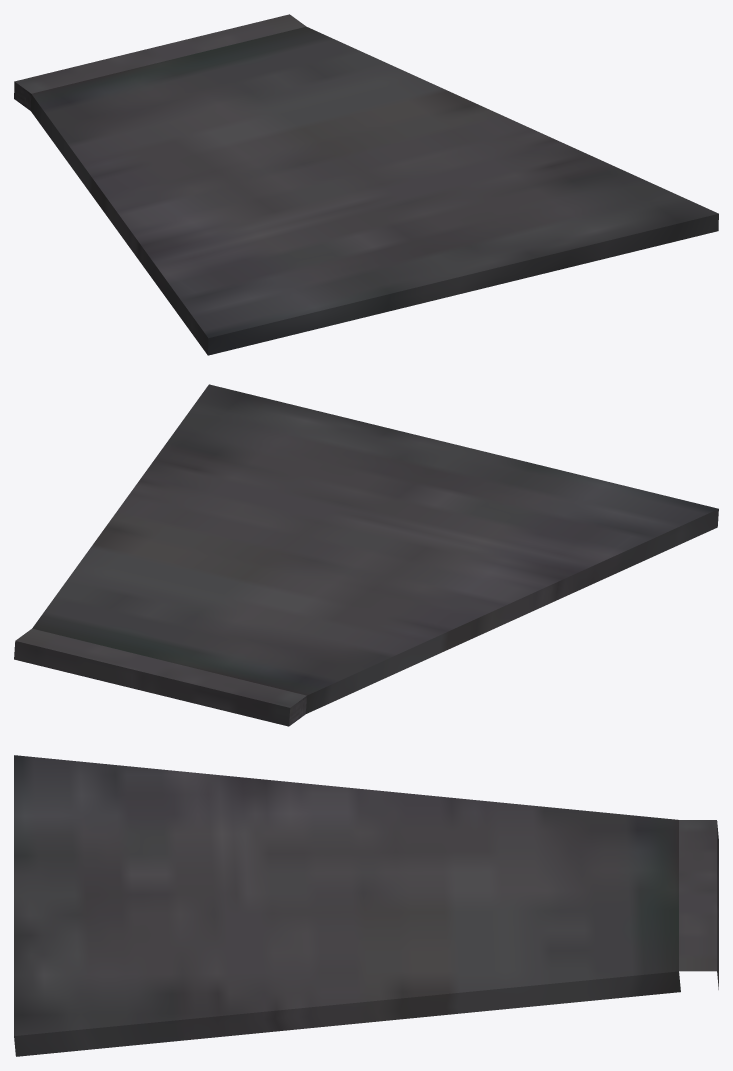
File: ZELAZNA_BLACHA.glb
3 views of the same model, one above another, from view 1: azimuth 30°, elevation 25°; view 2: azimuth 150°, elevation 25°; view 3: azimuth 270°, elevation 25° (orthographic). The views are drawn at different scales.
Visible parts, largest first — view 1: ZELAZNA_BLACHA; view 2: ZELAZNA_BLACHA; view 3: ZELAZNA_BLACHA.
Boxes of the visible parts, <box> form: ZELAZNA_BLACHA: <box>14,14,718,355</box>; ZELAZNA_BLACHA: <box>14,384,718,726</box>; ZELAZNA_BLACHA: <box>14,755,718,1056</box>.
Bounding box in the file's own units: 0.2454 × 0.00833 × 0.26.
1 material, 1 textured.
